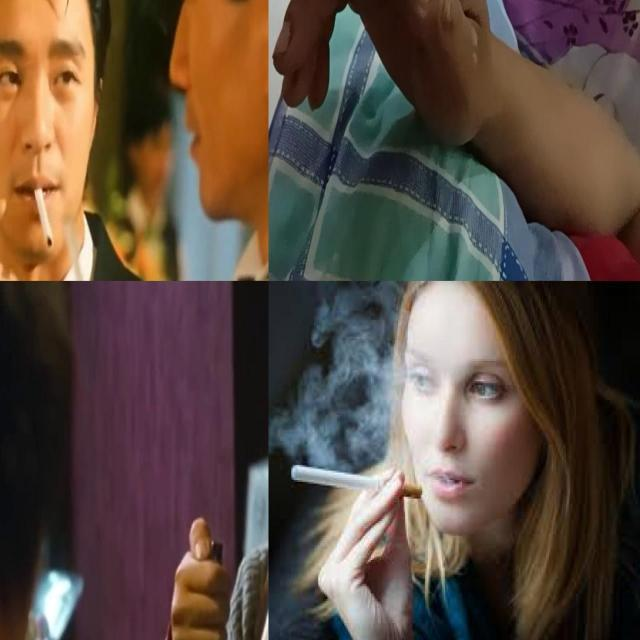smoke: (291, 465, 424, 500), (33, 188, 53, 248)
